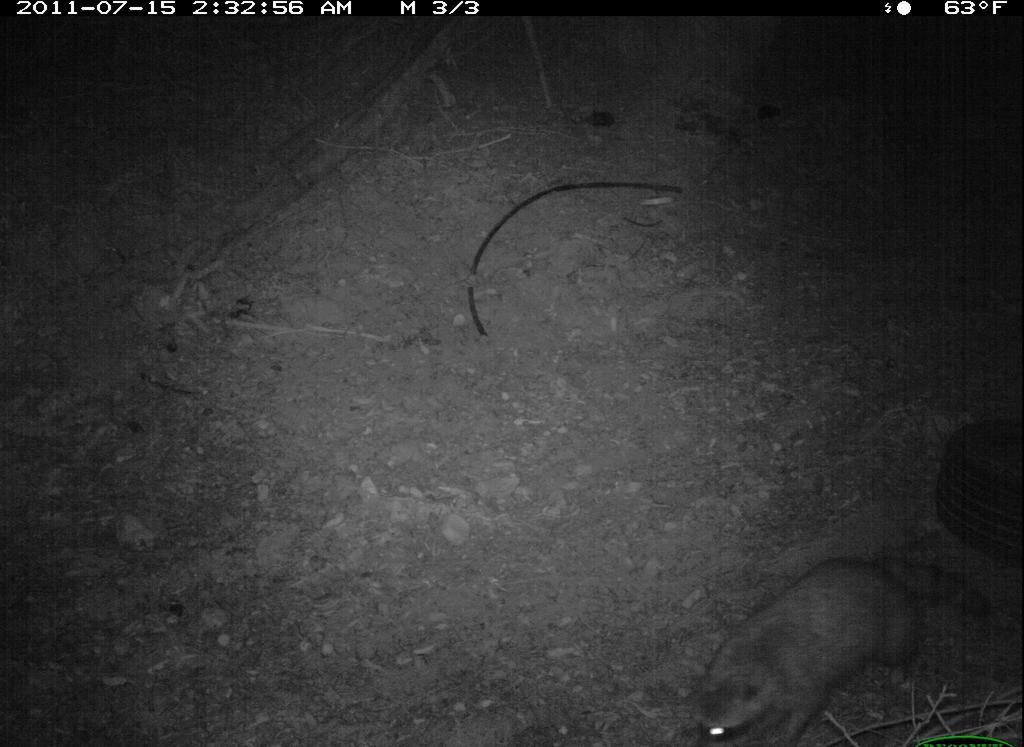raccoon: (701, 551, 986, 747)
